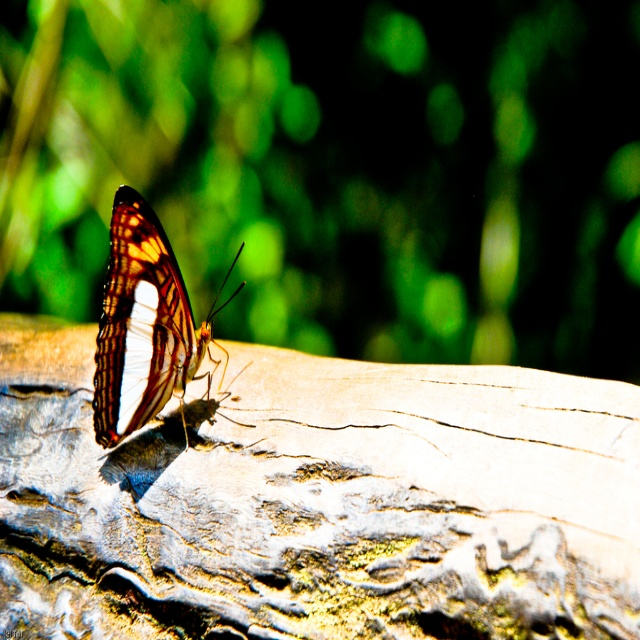Butterfly: (90, 183, 248, 454)
